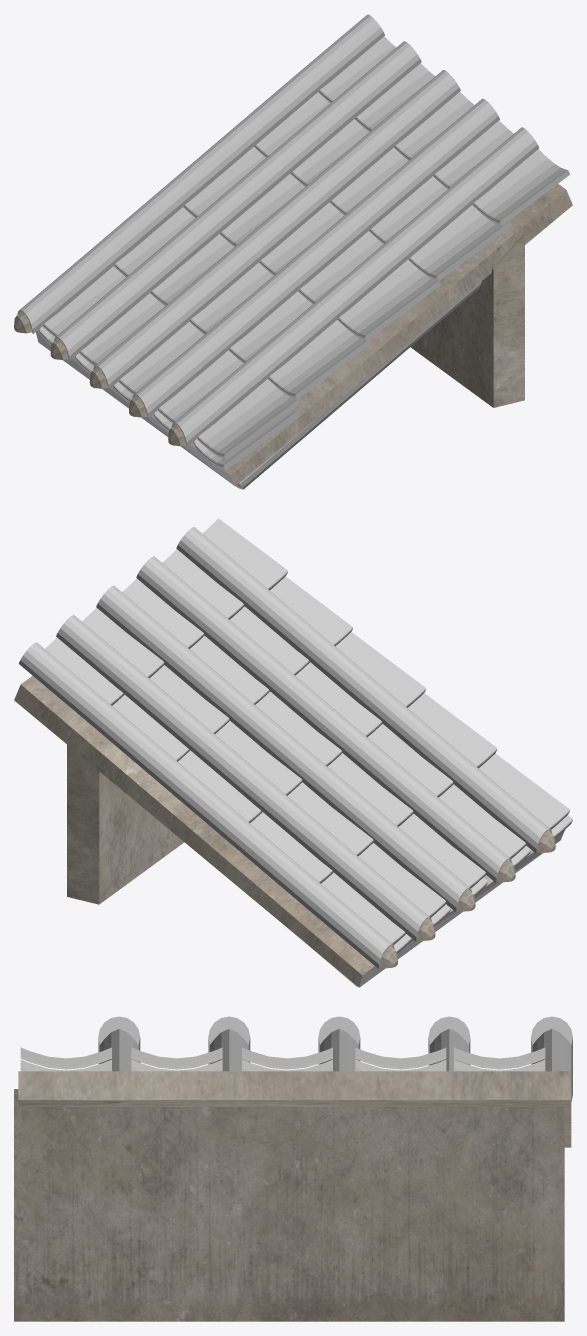
The model's file is SM_Roof_64.fbx.
3 renders of one model, top to bottom at view 1: azimuth 30°, elevation 25°; view 2: azimuth 150°, elevation 25°; view 3: azimuth 270°, elevation 25°, orthographic. The views are drawn at different scales.
Visible parts, largest first — view 1: SM_Roof_64; view 2: SM_Roof_64; view 3: SM_Roof_64.
Boxes of the visible parts, x1=… form: SM_Roof_64: x1=14, y1=14, x2=572, y2=489; SM_Roof_64: x1=14, y1=518, x2=572, y2=987; SM_Roof_64: x1=14, y1=1016, x2=572, y2=1321.
Bounding box in the file's own units: 238 × 222 × 167.
